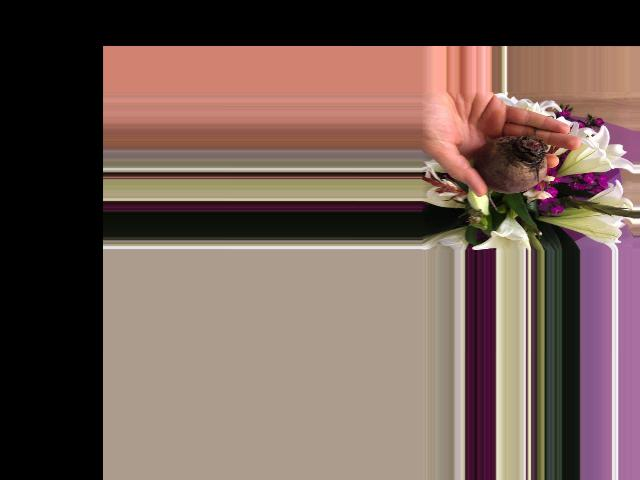beet: (473, 135, 548, 211)
